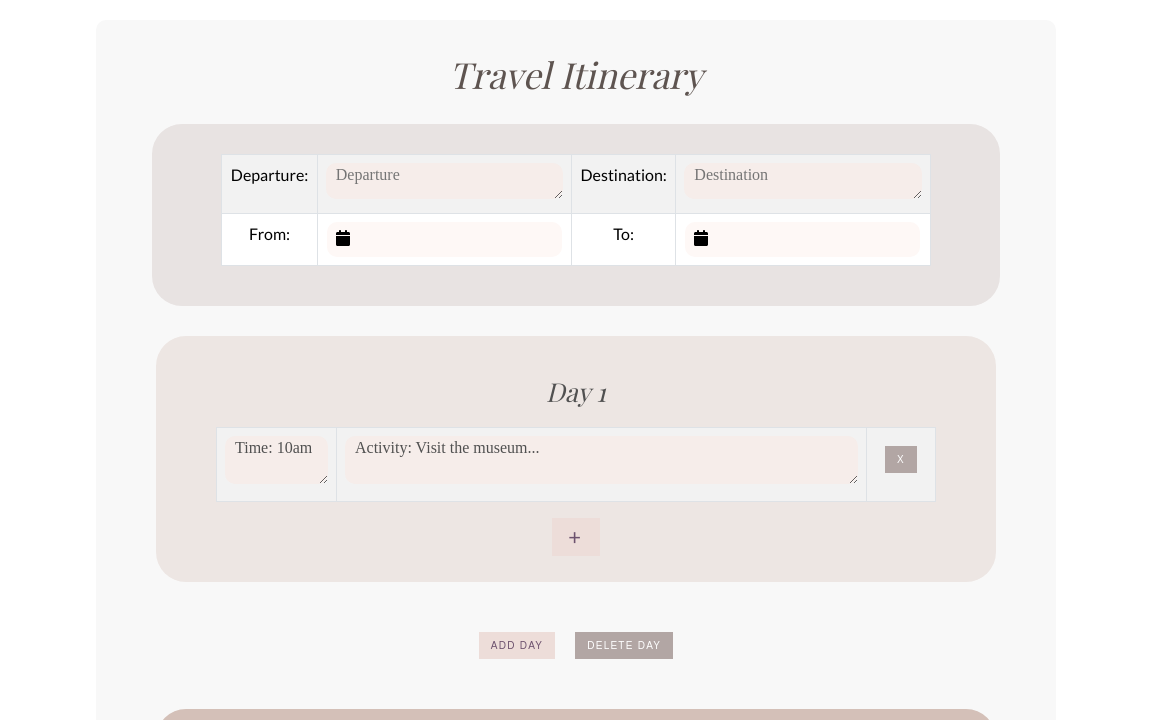
Test: add a new day
Note: Find the "Add Day" button and click it
Click the button "Add Day". click: (517, 646)
box: [479,632,555,659]
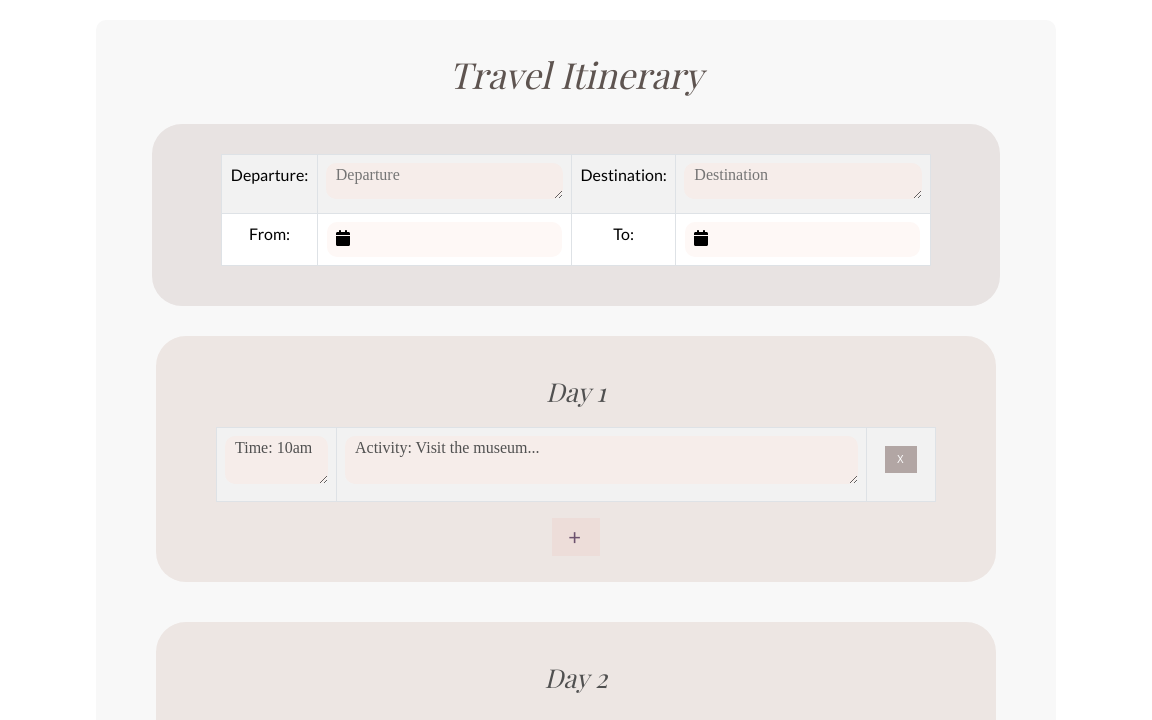
Now the heading "Day 2" is shown, box [545,660,607,695]
